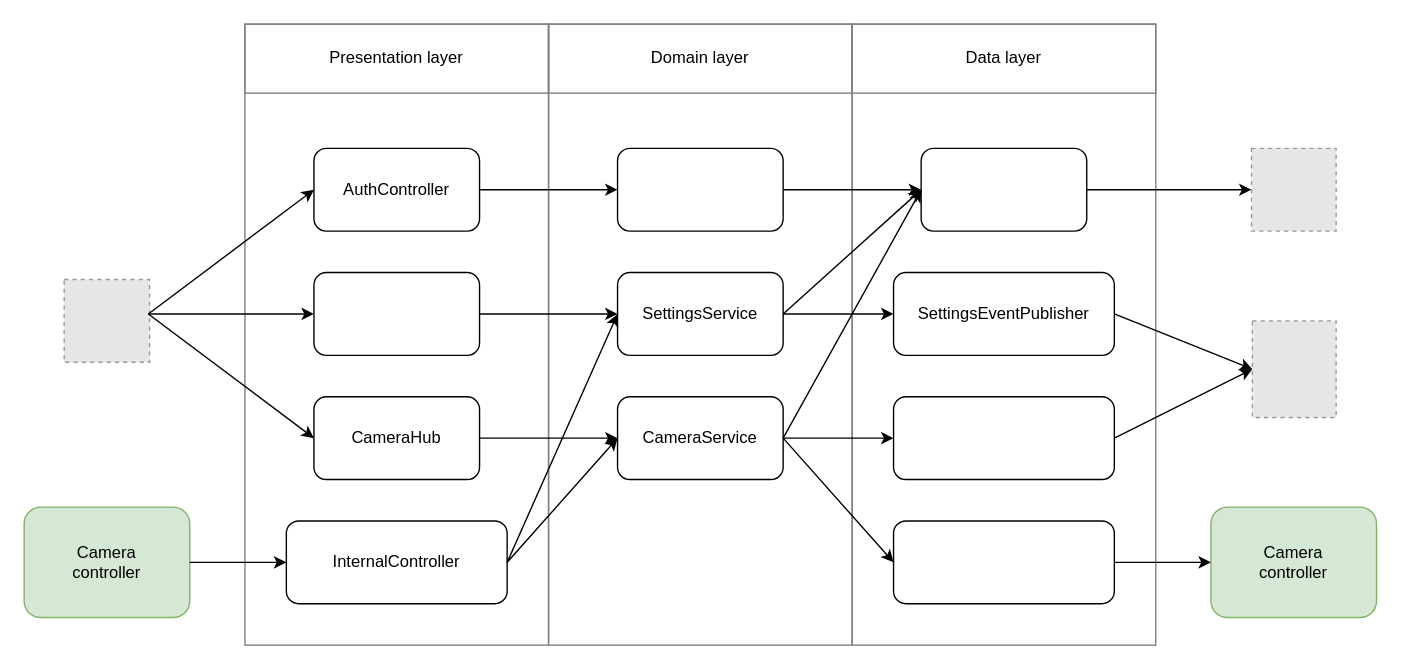
Image size: 1401x669. Some labels were removed from this diagram. Grey dashed boxes stand in for pictures. Each missing label, with the centre of its shape:
"AppDbContext" belongs at point 1003,189.
"AuthService" belongs at point 699,189.
"CameraControllerClient" belongs at point 1003,562.
"CameraEventConsumer" belongs at point 1003,437.
"SettingsHub" belongs at point 396,313.
